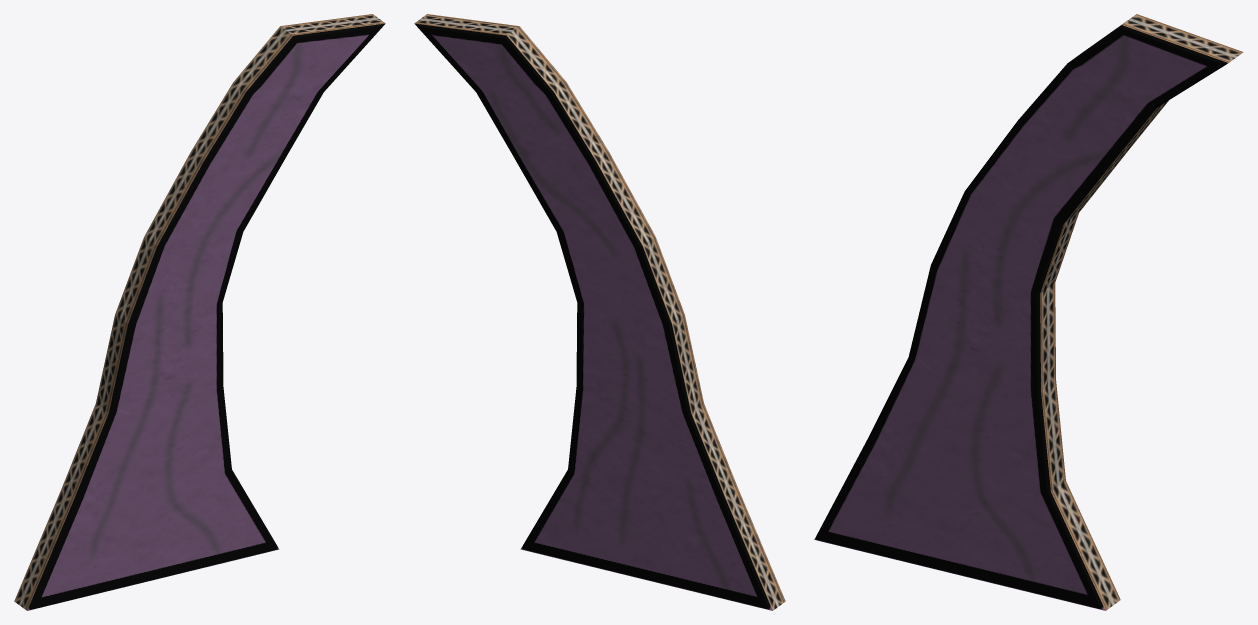
Rendered from Arbre droit.fbx.
3 views of the same model, side by side, from view 1: azimuth 30°, elevation 25°; view 2: azimuth 150°, elevation 25°; view 3: azimuth 330°, elevation 25° (orthographic). The views are drawn at different scales.
Parts seen in each view (by area): view 1: tronc.001; view 2: tronc.001; view 3: tronc.001.
Part boxes in pixels (bbox=[...]): tronc.001: bbox=[14, 14, 385, 610]; tronc.001: bbox=[414, 14, 785, 610]; tronc.001: bbox=[814, 14, 1243, 610].
Bounding box in the file's own units: 685 × 50 × 932.
